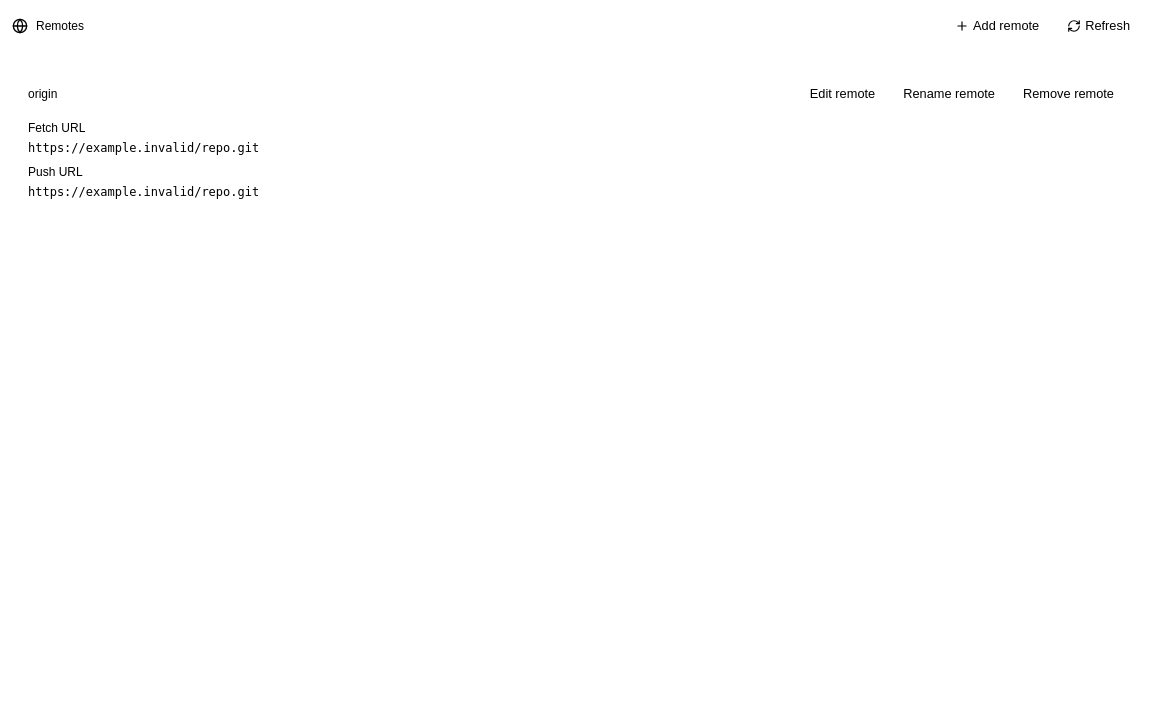
refreshes after stale rejection without automatically retrying
Click the button "Remove remote" at (1068, 94), box [1013,80,1124,108]
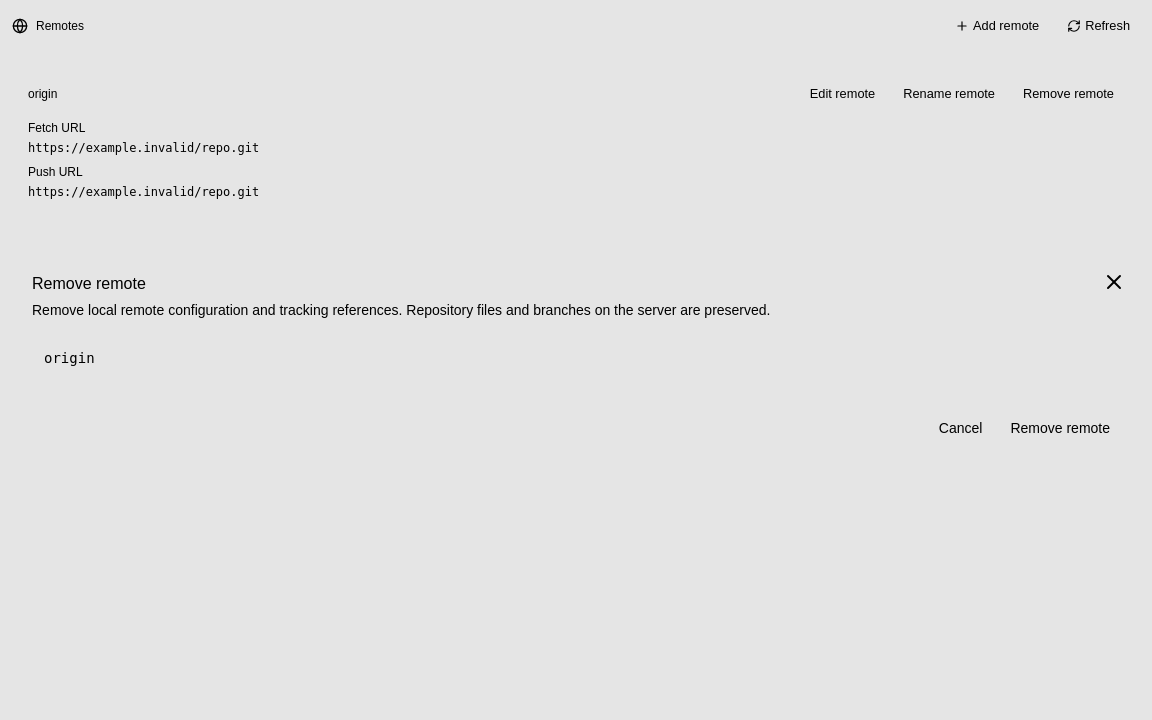
Click the button "Remove remote" at (1060, 428), box [1000,412,1120,444]
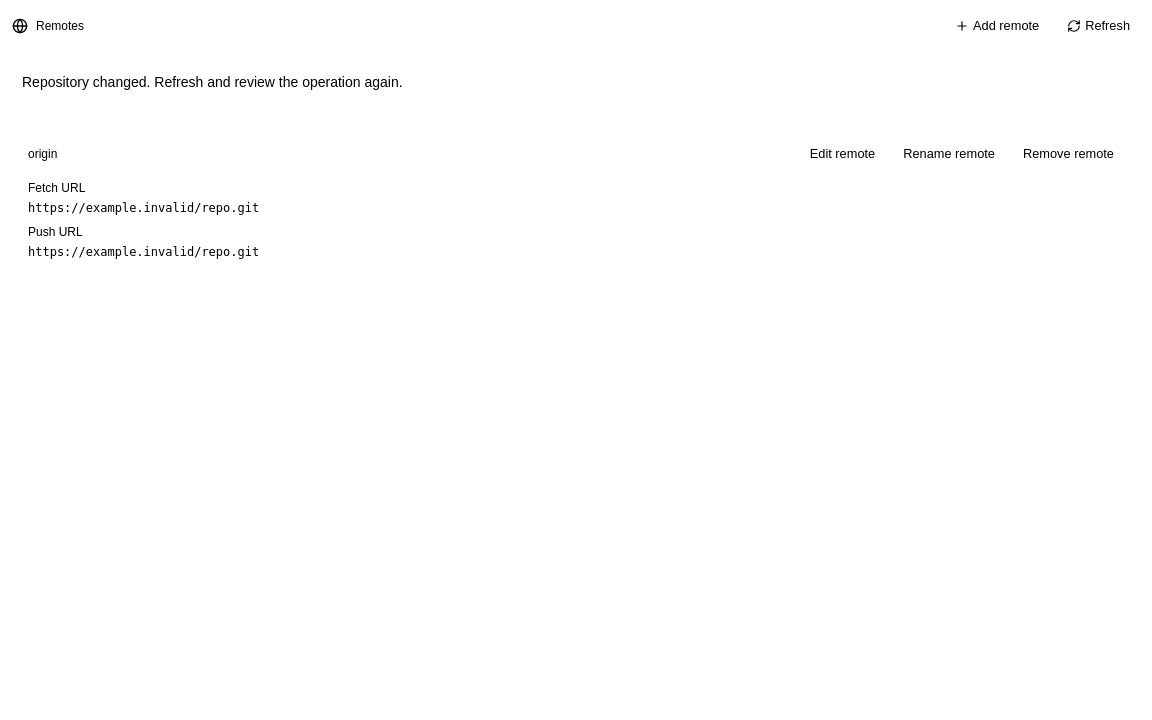
Expected: the message shows "Repository changed", [22,74,403,90]
